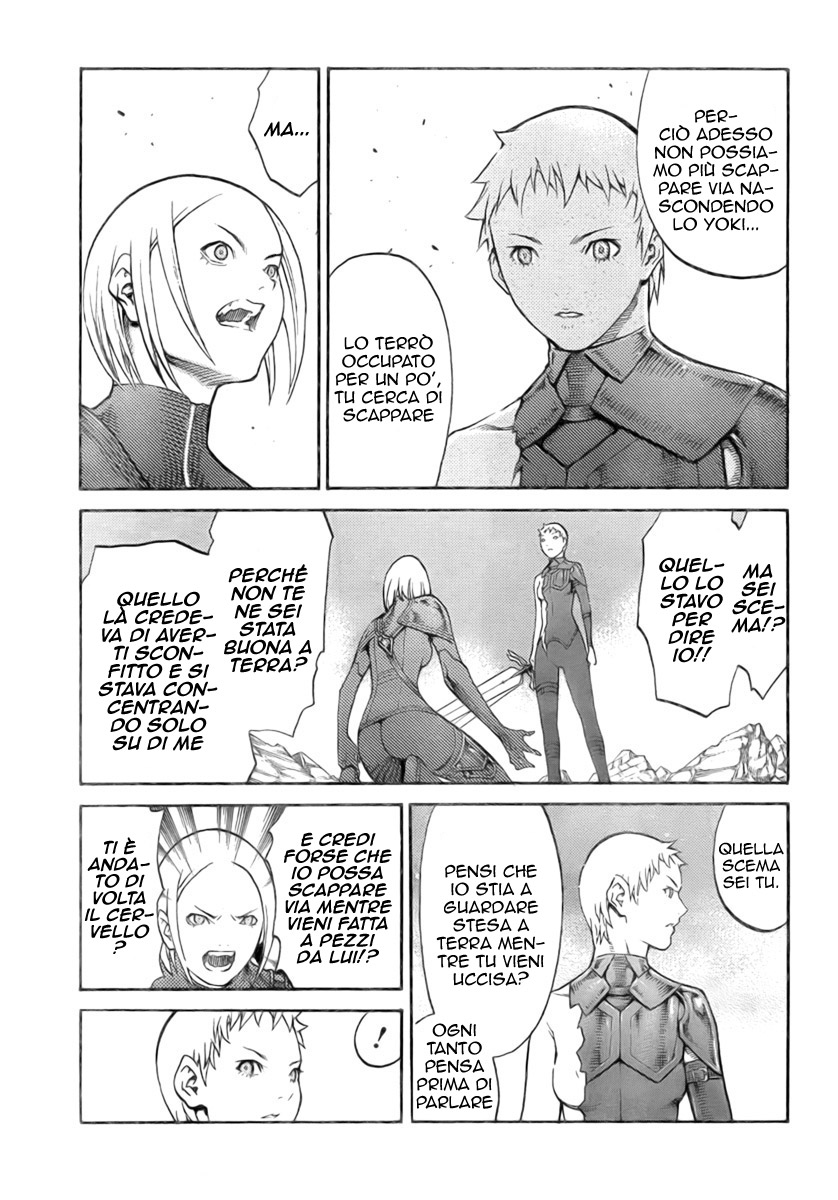Baloon: (81, 509, 332, 785), (421, 800, 561, 1120), (636, 62, 788, 280), (641, 503, 790, 711), (327, 253, 448, 482), (267, 802, 401, 991), (76, 807, 159, 991), (712, 796, 790, 933), (247, 71, 319, 194)
Vignetta: (78, 509, 785, 785), (328, 71, 788, 487), (410, 805, 792, 1125), (79, 65, 321, 491), (79, 805, 401, 993), (79, 1007, 401, 1122)
